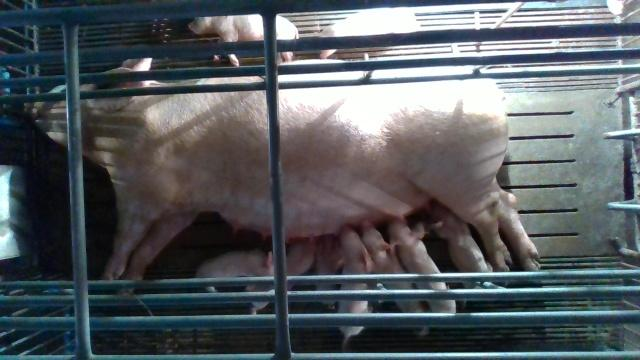piglet: (359, 220, 430, 330), (388, 220, 456, 314), (244, 237, 319, 313), (429, 202, 494, 289), (189, 14, 299, 65), (315, 7, 419, 58), (335, 225, 372, 349), (195, 252, 274, 292), (311, 233, 341, 310)
sow-sleep-lactate: (28, 58, 542, 296)
